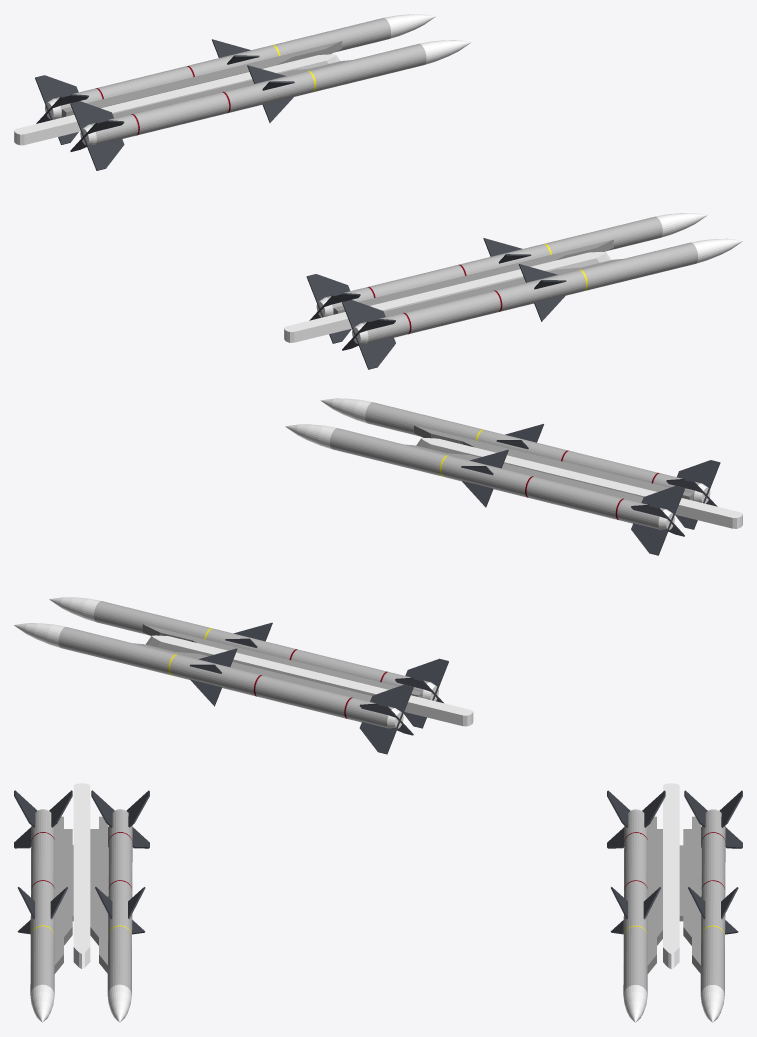
File: f15exaim1205101.glb
3 renders of one model, top to bottom at view 1: azimuth 30°, elevation 25°; view 2: azimuth 150°, elevation 25°; view 3: azimuth 270°, elevation 25°, orthographic. The views are drawn at different scales.
Parts seen in each view (by area): view 1: 円柱.017, 円柱.019, 円柱.018, 円柱.020, fuselage.002, fuselage.001; view 2: 円柱.018, 円柱.020, 円柱.019, 円柱.017, fuselage.002, fuselage.001; view 3: fuselage.001, fuselage.002, 円柱.018, 円柱.020, 円柱.019, 円柱.017.
Part boxes in pixels (<box>): 円柱.017: <box>70,40,471,170</box>; 円柱.019: <box>342,238,742,369</box>; 円柱.018: <box>35,14,435,144</box>; 円柱.020: <box>306,213,707,343</box>; fuselage.002: <box>14,41,351,145</box>; fuselage.001: <box>284,239,623,342</box>; 円柱.018: <box>14,623,413,754</box>; 円柱.020: <box>285,424,684,555</box>; 円柱.019: <box>320,398,720,529</box>; 円柱.017: <box>49,597,448,728</box>; fuselage.002: <box>134,624,473,726</box>; fuselage.001: <box>406,425,742,528</box>; fuselage.001: <box>54,783,107,973</box>; fuselage.002: <box>647,783,700,973</box>; 円柱.018: <box>684,790,742,1022</box>; 円柱.020: <box>91,790,149,1022</box>; 円柱.019: <box>14,790,72,1022</box>; 円柱.017: <box>607,790,665,1022</box>.
Bounding box in the file's own units: 4.97 × 0.5308 × 6.55.
14 materials, 9 textured.
